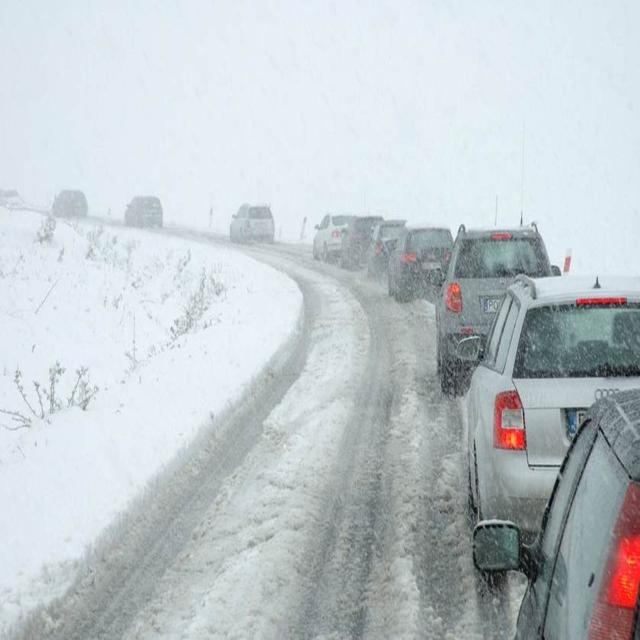car: (471, 290, 639, 570), (439, 228, 501, 379), (389, 224, 454, 303), (368, 223, 406, 279), (342, 215, 374, 271), (234, 204, 276, 245), (312, 215, 348, 262), (122, 195, 164, 228)
